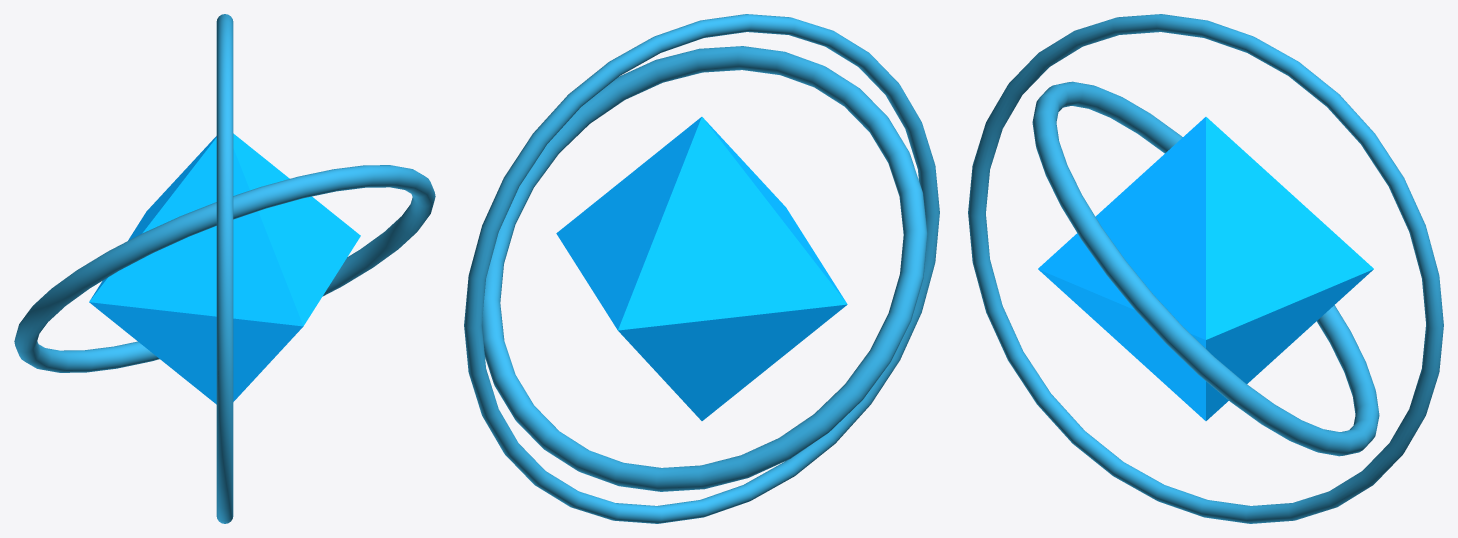
File: boxem_clock_crystal.glb
3 views of the same model, side by side, from view 1: azimuth 30°, elevation 25°; view 2: azimuth 150°, elevation 25°; view 3: azimuth 270°, elevation 25° (orthographic). The views are drawn at different scales.
Parts seen in each view (by area): view 1: ClockCrystal; view 2: ClockCrystal; view 3: ClockCrystal.
Boxes of the visible parts, <box> form: ClockCrystal: <box>14,14,435,523</box>; ClockCrystal: <box>464,14,939,523</box>; ClockCrystal: <box>968,14,1443,523</box>.
Size of the model in its own units: 0.8 by 0.91 by 0.7918.
